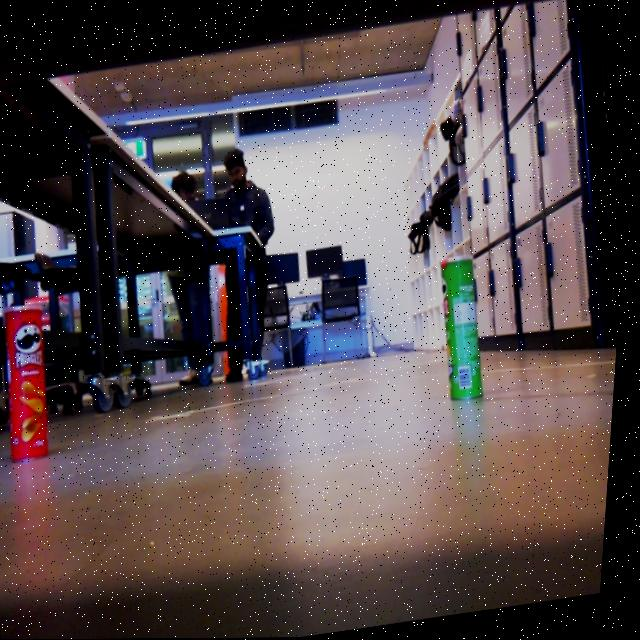greenpringles: (420, 236, 519, 422)
redpringles: (0, 288, 70, 468)
